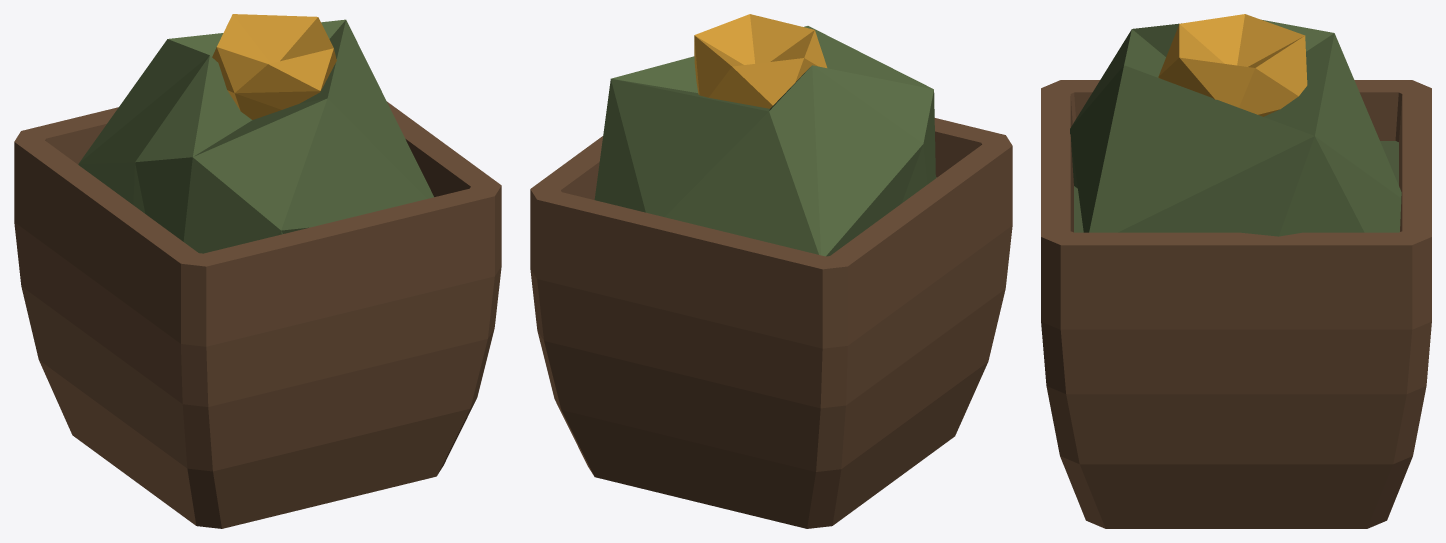
Rendered from SM_Props_Interior_Plant_Small_01.fbx.
The picture shows the model from 3 angles, left to right: view 1: azimuth 30°, elevation 25°; view 2: azimuth 150°, elevation 25°; view 3: azimuth 270°, elevation 25°; orthographic projection. The views are drawn at different scales.
Parts seen in each view (by area): view 1: SM_Props_Interior_Plant_Small_01; view 2: SM_Props_Interior_Plant_Small_01; view 3: SM_Props_Interior_Plant_Small_01.
Part boxes in pixels (<box>): SM_Props_Interior_Plant_Small_01: <box>14,14,501,528</box>; SM_Props_Interior_Plant_Small_01: <box>530,14,1012,528</box>; SM_Props_Interior_Plant_Small_01: <box>1041,14,1431,528</box>.
Bounding box in the file's own units: 24 × 29.37 × 24.
